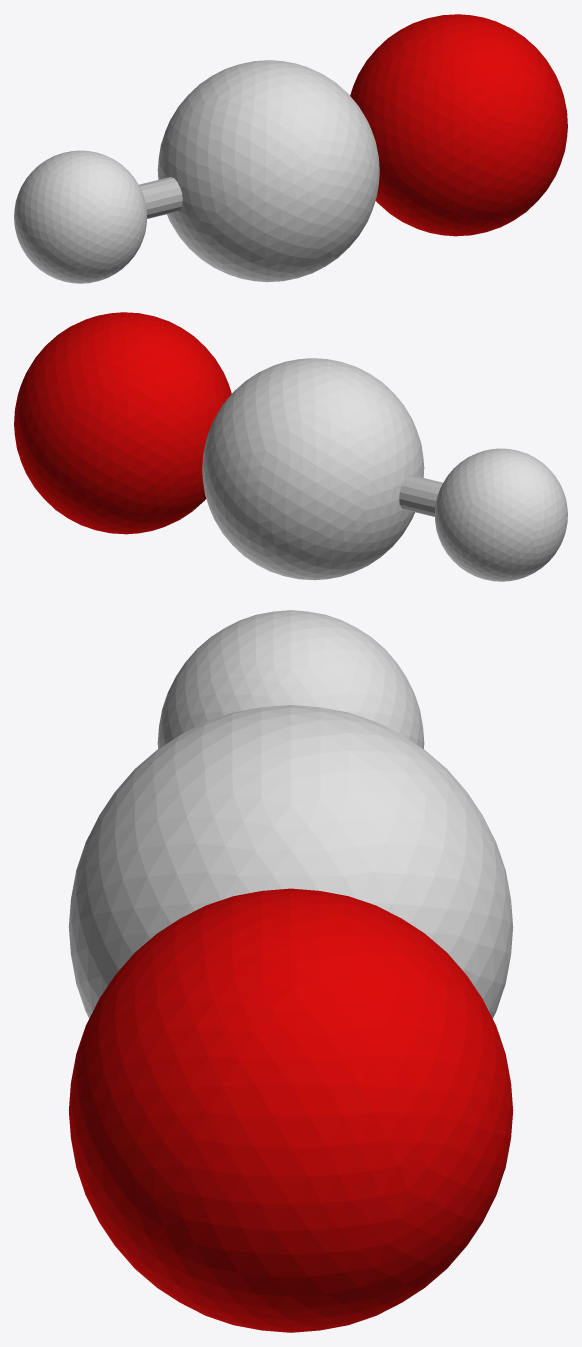
3 views of the same model, one above another, from view 1: azimuth 30°, elevation 25°; view 2: azimuth 150°, elevation 25°; view 3: azimuth 270°, elevation 25° (orthographic). The views are drawn at different scales.
Visible parts, largest first — view 1: world; view 2: world; view 3: world.
Boxes of the visible parts, x1,y1,x2,y2 form: world: (14,14,567,283); world: (14,312,567,581); world: (68,610,513,1332).
Size of the model in its own units: 1.38 by 0.5 by 0.5.
